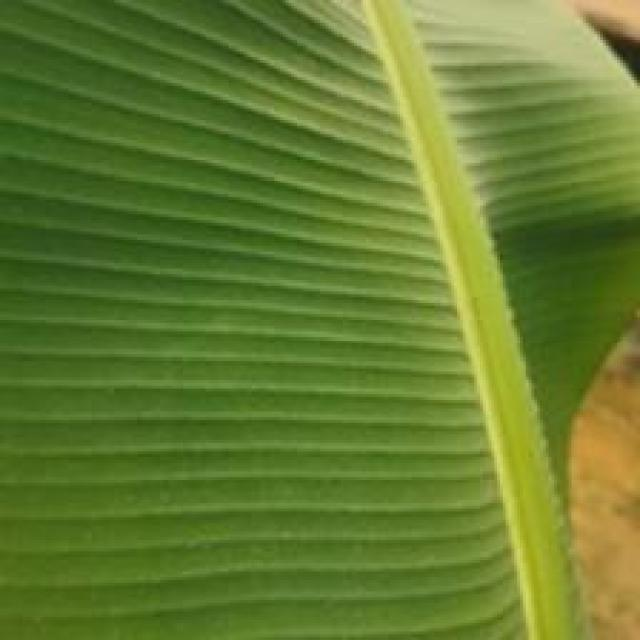Black_leaf_spot: (13, 0, 624, 640)
